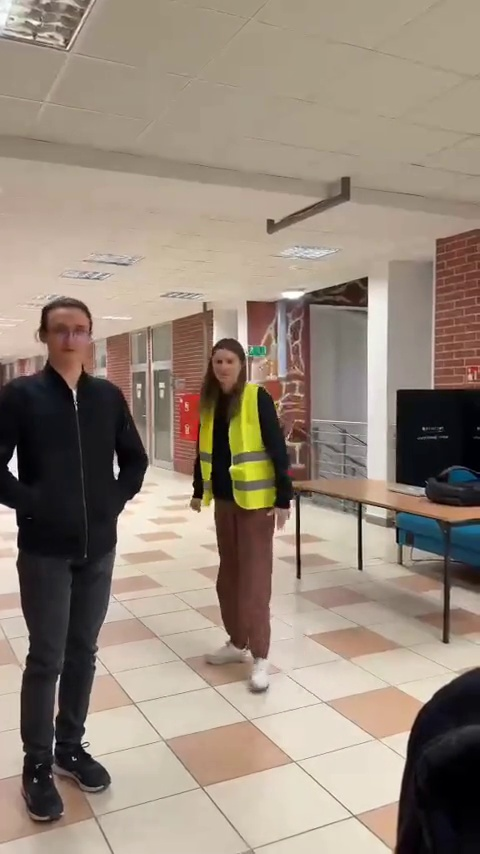no vest: (0, 290, 147, 821)
vest: (187, 346, 299, 679)
